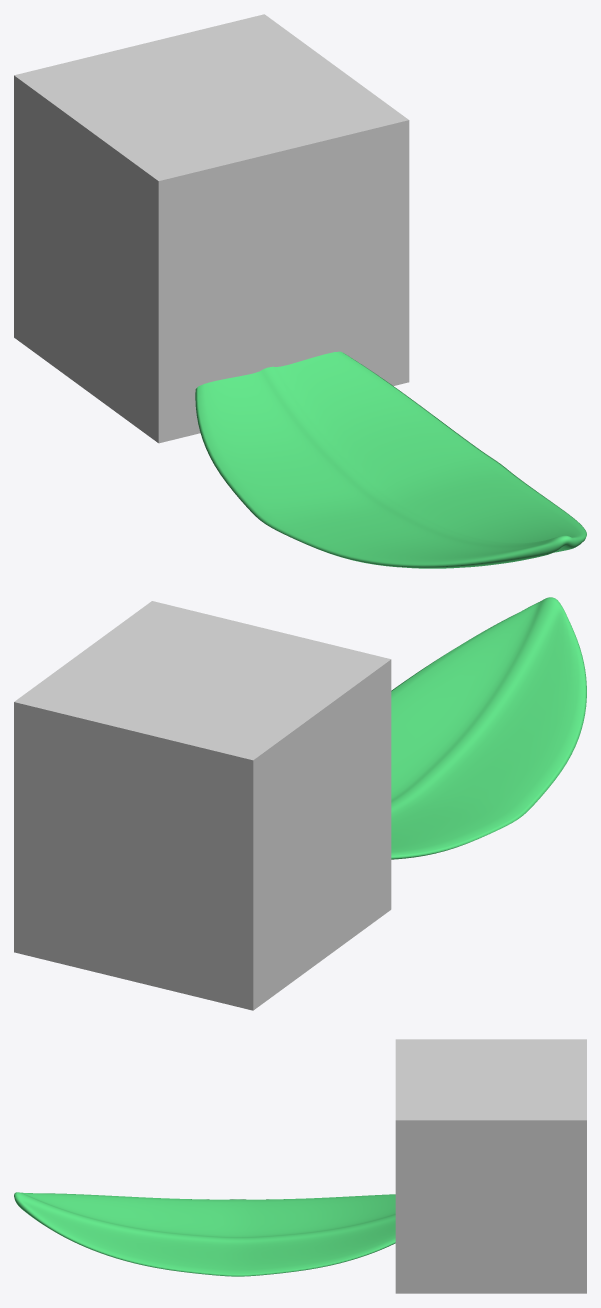
The model's file is Hoja.fbx.
The picture shows the model from 3 angles, top to bottom: view 1: azimuth 30°, elevation 25°; view 2: azimuth 150°, elevation 25°; view 3: azimuth 270°, elevation 25°; orthographic projection. The views are drawn at different scales.
Visible parts, largest first — view 1: Cube, Círculo; view 2: Cube, Círculo; view 3: Cube, Círculo.
Boxes of the visible parts, x1=… form: Cube: x1=14, y1=14, x2=409, y2=443; Círculo: x1=195, y1=351, x2=586, y2=568; Cube: x1=14, y1=601, x2=391, y2=1010; Círculo: x1=391, y1=597, x2=586, y2=859; Cube: x1=395, y1=1039, x2=586, y2=1293; Círculo: x1=14, y1=1192, x2=395, y2=1276.
Size of the model in its own units: 212 by 202 by 599.
